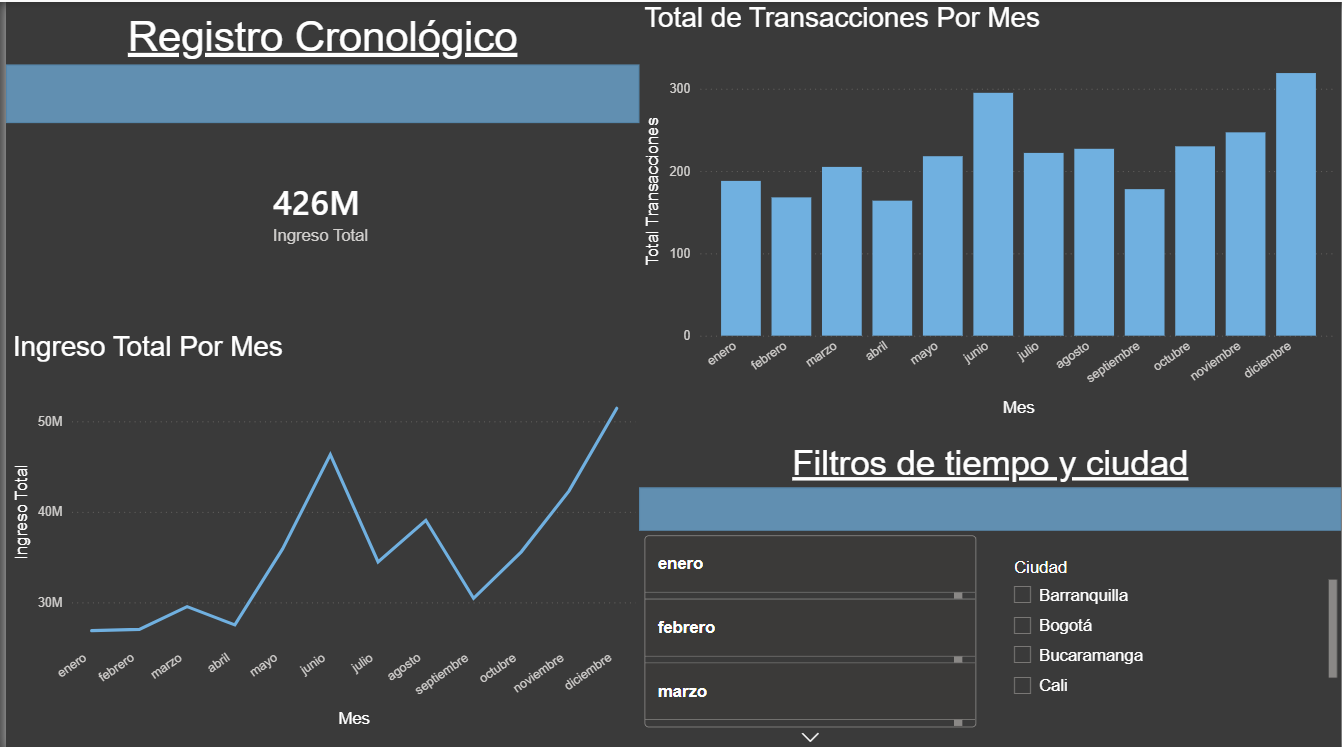

What the dashboard file says about the page in this screenshot:
{"tool":"powerbi","page":{"name":"Tendencia Temporal","canvas":[1280,720],"ordinal":1},"visuals":[{"type":"lineChart","title":"Ingreso Total Por Mes","fields":{"Y":["Hoja2.Ingreso Total"],"Category":["Fechas.Nombre Mes"]},"box":[1.4,314.3,607.1,385.7],"z":0},{"type":"columnChart","title":"Total de Transacciones Por Mes","fields":{"Category":["Fechas.Nombre Mes"],"Y":["Hoja2.Total Transacciones"]},"box":[607.2,0,673.6,401.6],"z":1000},{"type":"cardVisual","fields":{"Rows":["Fechas.Nombre Mes"]},"box":[607.2,485.8,328.7,234.8],"z":2000},{"type":"cardVisual","fields":{"Data":["Hoja2.Ingreso Total"]},"box":[225.7,125.7,157.1,150],"z":3000},{"type":"slicer","fields":{"Values":["Hoja2.Ciudad"]},"box":[952.8,528.1,327.7,147.9],"z":4000},{"type":"shape","title":"Registro Cronológico","box":[0,10,607.1,105.7],"z":5000},{"type":"shape","title":"Filtros de tiempo y ciudad","box":[607.2,422.6,673.6,84.2],"z":6000}]}

Visuals, with their boxes in screenshot pixels (x1, y1, x2, y2), scaled from the page's 1280x720 canvas onto the 1342x747 screenshot:
"Ingreso Total Por Mes" lineChart: bbox(1, 326, 638, 726)
"Total de Transacciones Por Mes" columnChart: bbox(637, 0, 1341, 417)
cardVisual - Fechas.Nombre Mes: bbox(637, 504, 981, 746)
cardVisual - Hoja2.Ingreso Total: bbox(237, 130, 401, 286)
slicer - Hoja2.Ciudad: bbox(999, 548, 1341, 701)
"Registro Cronológico" shape: bbox(0, 10, 637, 120)
"Filtros de tiempo y ciudad" shape: bbox(637, 438, 1341, 526)
